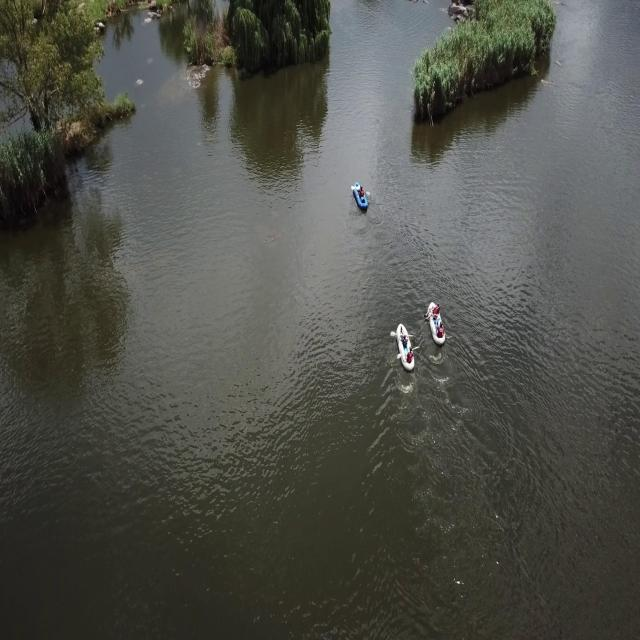kayak: (391, 316, 419, 378), (424, 294, 449, 352), (351, 172, 371, 218)
